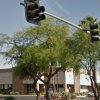Traffic light: (17, 0, 49, 36)
